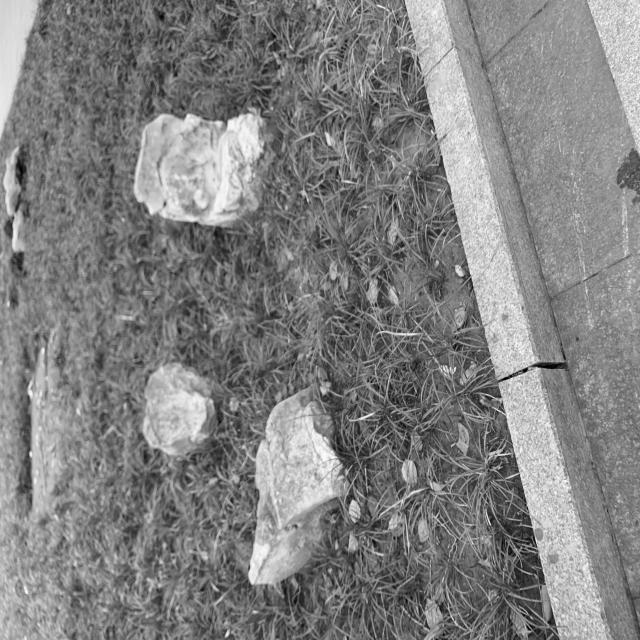Stone: (249, 389, 346, 584), (134, 114, 275, 227), (142, 363, 216, 455)
